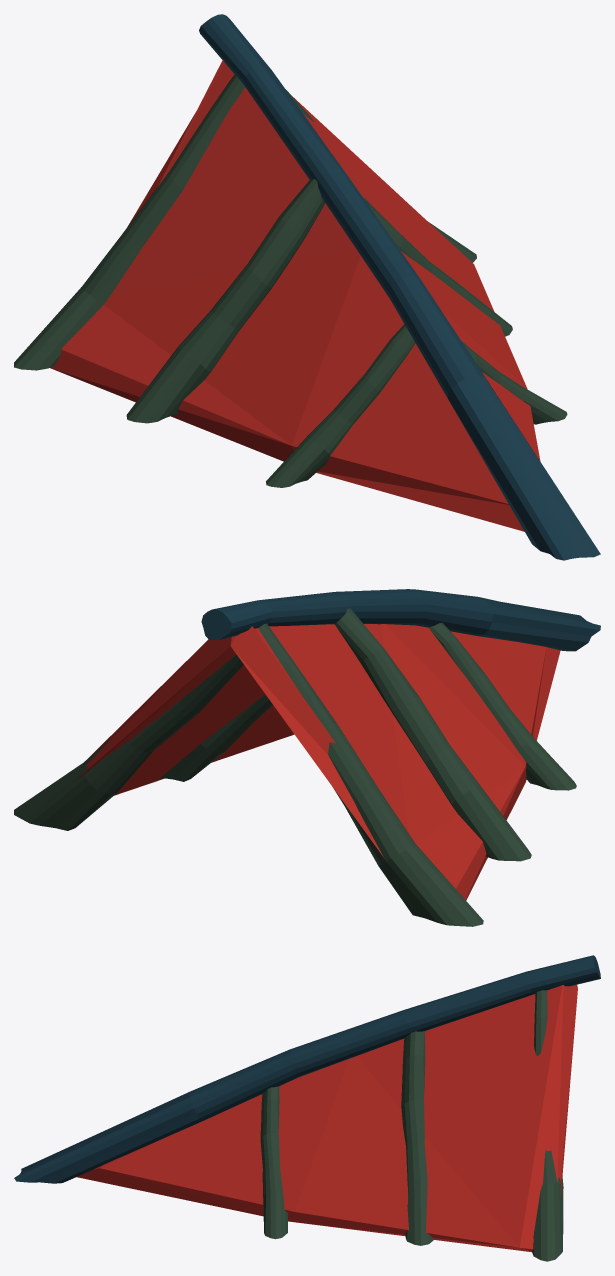
File: Tent1.obj
The picture shows the model from 3 angles, top to bottom: view 1: azimuth 30°, elevation 25°; view 2: azimuth 150°, elevation 25°; view 3: azimuth 270°, elevation 25°; orthographic projection. The views are drawn at different scales.
Visible parts, largest first — view 1: polySurface6, pasted__pasted__pasted__pasted__pCylinder1 polySurface4, pasted__pasted__pasted__pasted__pCylinder1 polySurface3, polySurface2 pasted__pasted__pasted__pasted__pCylinder1, pasted__pasted__pasted__pasted__pCylinder1 polySurface5; view 2: polySurface6, polySurface2 pasted__pasted__pasted__pasted__pCylinder1, pasted__pasted__pasted__pasted__pCylinder1 polySurface4, pasted__pasted__pasted__pasted__pCylinder1 polySurface3, pasted__pasted__pasted__pasted__pCylinder1 polySurface5; view 3: polySurface6, pasted__pasted__pasted__pasted__pCylinder1 polySurface4, pasted__pasted__pasted__pasted__pCylinder1 polySurface3, polySurface2 pasted__pasted__pasted__pasted__pCylinder1, pasted__pasted__pasted__pasted__pCylinder1 polySurface5.
Part boxes in pixels (left/top/right/bottom): polySurface6: left=50, top=60, right=540, bottom=531; pasted__pasted__pasted__pasted__pCylinder1 polySurface4: left=199, top=14, right=600, bottom=560; pasted__pasted__pasted__pasted__pCylinder1 polySurface3: left=126, top=179, right=512, bottom=423; polySurface2 pasted__pasted__pasted__pasted__pCylinder1: left=14, top=74, right=476, bottom=370; pasted__pasted__pasted__pasted__pCylinder1 polySurface5: left=266, top=324, right=567, bottom=487; polySurface6: left=73, top=624, right=560, bottom=900; polySurface2 pasted__pasted__pasted__pasted__pCylinder1: left=14, top=623, right=483, bottom=926; pasted__pasted__pasted__pasted__pCylinder1 polySurface4: left=201, top=589, right=600, bottom=651; pasted__pasted__pasted__pasted__pCylinder1 polySurface3: left=160, top=608, right=531, bottom=861; pasted__pasted__pasted__pasted__pCylinder1 polySurface5: left=429, top=623, right=576, bottom=790; polySurface6: left=77, top=984, right=577, bottom=1252; pasted__pasted__pasted__pasted__pCylinder1 polySurface4: left=14, top=955, right=600, bottom=1183; pasted__pasted__pasted__pasted__pCylinder1 polySurface3: left=401, top=1031, right=434, bottom=1245; polySurface2 pasted__pasted__pasted__pasted__pCylinder1: left=532, top=990, right=563, bottom=1261; pasted__pasted__pasted__pasted__pCylinder1 polySurface5: left=260, top=1086, right=287, bottom=1239.
Size of the model in its own units: 8.87 by 5.24 by 12.35.
